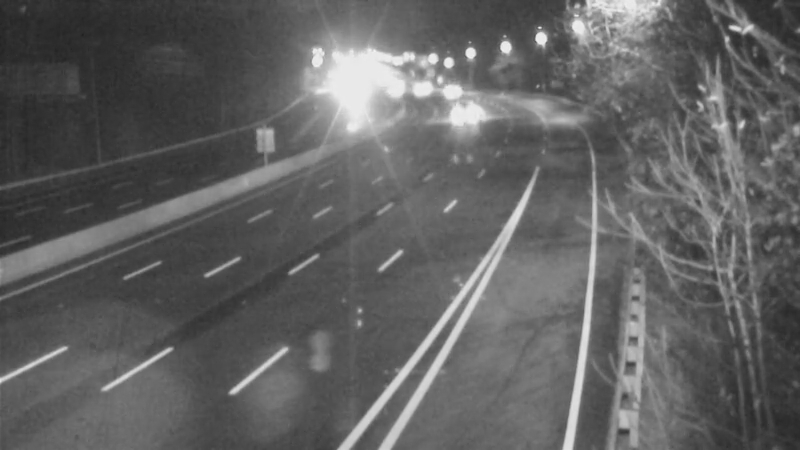vehicle: (427, 68, 477, 118), (441, 90, 491, 140)
